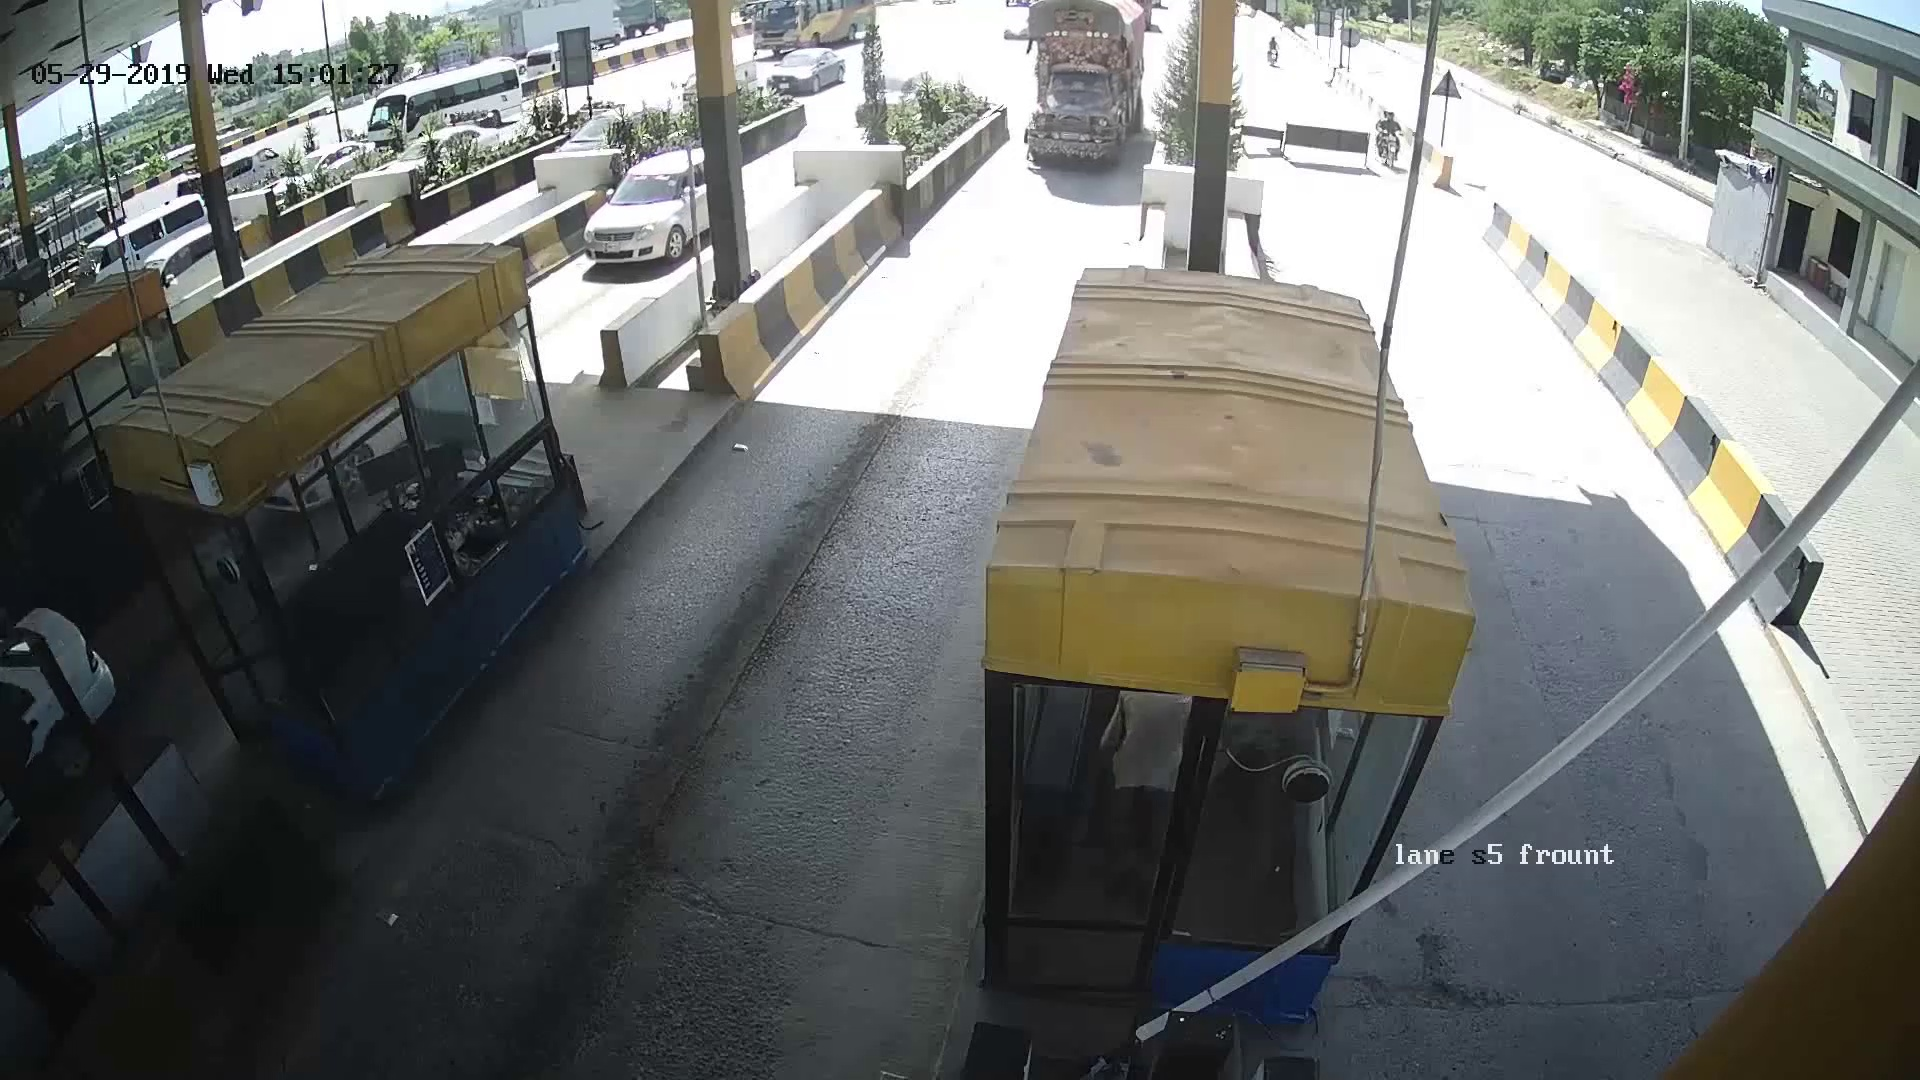truck: (1006, 18, 1167, 190)
